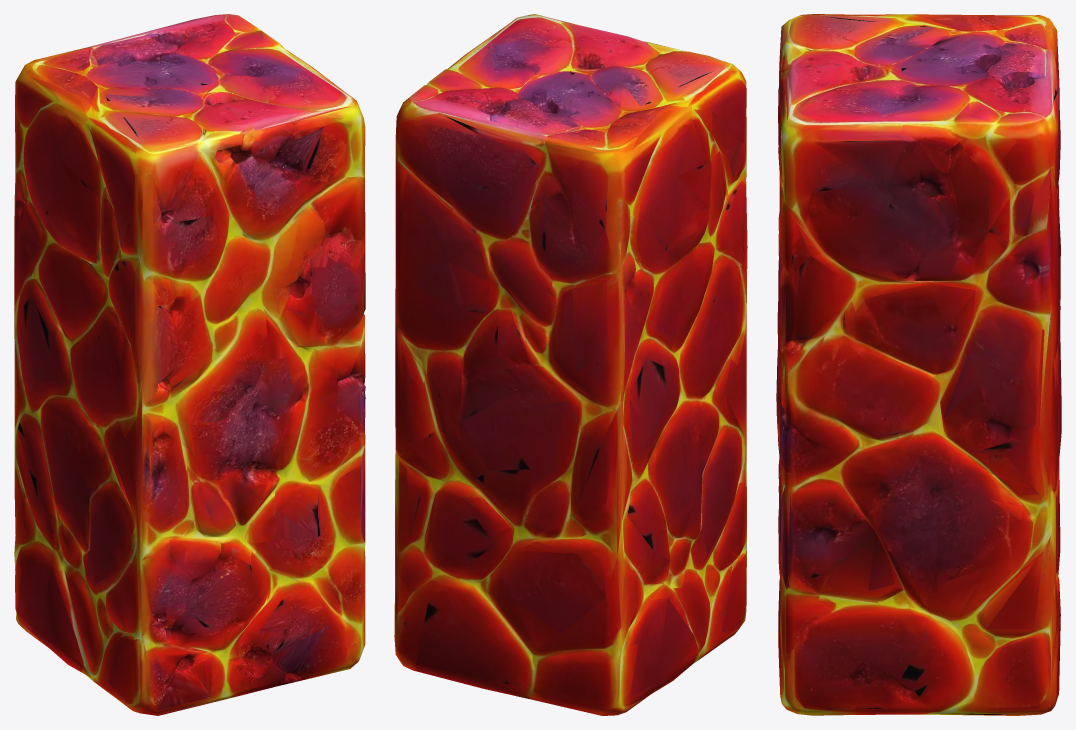
File: alev_tas_uzun_kup_parcali.glb
3 views of the same model, side by side, from view 1: azimuth 30°, elevation 25°; view 2: azimuth 150°, elevation 25°; view 3: azimuth 270°, elevation 25° (orthographic). The views are drawn at different scales.
Parts seen in each view (by area): view 1: p05, p10, p04, p11, p07, p00, p06, p03, p08, p02; view 2: p00, p05, p03, p01, p02, p09, p08, p04, p10; view 3: p05, p06, p07, p09, p01, p02, p11.
Part boxes in pixels (bbox=[...]): p05: bbox=[41, 14, 365, 245]; p10: bbox=[59, 414, 277, 666]; p04: bbox=[30, 198, 242, 434]; p11: bbox=[136, 311, 365, 508]; p07: bbox=[212, 441, 365, 695]; p00: bbox=[14, 58, 121, 383]; p06: bbox=[226, 155, 365, 386]; p03: bbox=[14, 492, 238, 715]; p08: bbox=[14, 404, 81, 533]; p02: bbox=[14, 368, 45, 416]; p00: bbox=[491, 124, 734, 459]; p05: bbox=[395, 14, 746, 255]; p03: bbox=[525, 521, 746, 715]; p01: bbox=[395, 210, 537, 449]; p02: bbox=[395, 386, 659, 534]; p09: bbox=[394, 473, 534, 697]; p08: bbox=[489, 455, 698, 648]; p04: bbox=[643, 115, 747, 457]; p10: bbox=[675, 326, 746, 567]; p05: bbox=[778, 14, 1060, 264]; p06: bbox=[778, 174, 989, 451]; p07: bbox=[778, 448, 969, 715]; p09: bbox=[852, 506, 1060, 715]; p01: bbox=[894, 225, 1061, 490]; p02: bbox=[893, 403, 1061, 528]; p11: bbox=[776, 301, 841, 482].
Size of the model in its own units: 0.4289 by 0.9788 by 0.421.
2 materials, 1 textured.
